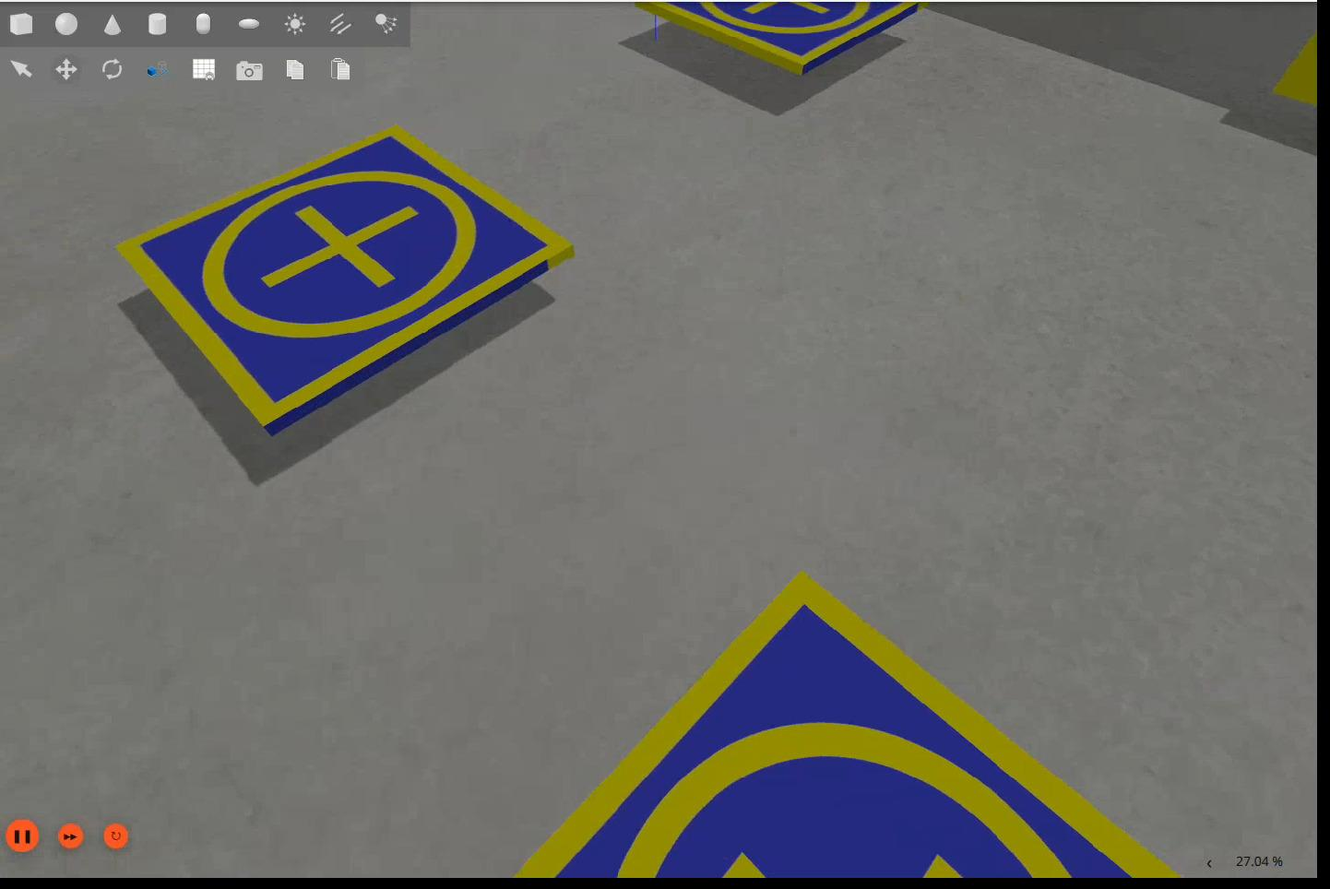small_base: (520, 568, 1186, 878), (114, 124, 578, 438), (640, 1, 920, 76)
